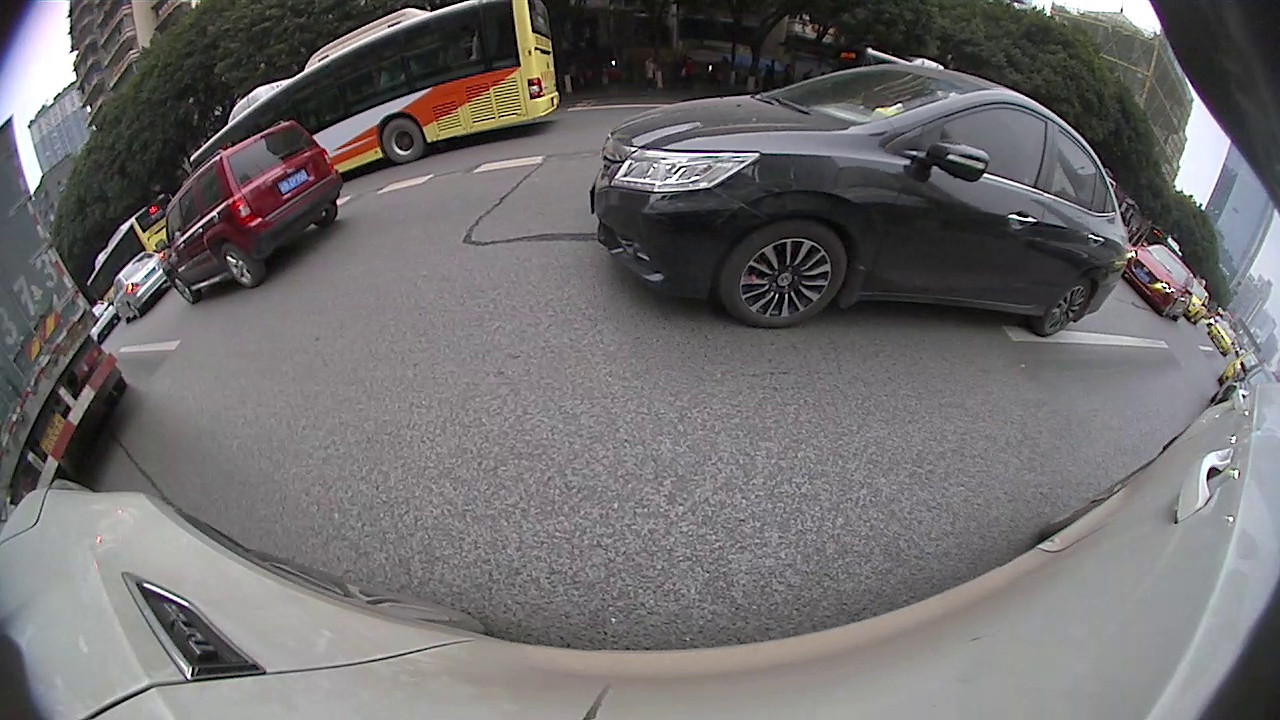bus: (189, 3, 560, 182), (87, 187, 179, 297)
car: (590, 66, 1130, 338), (166, 121, 341, 304), (1129, 242, 1194, 320), (111, 250, 174, 321), (1218, 368, 1274, 406), (1207, 318, 1240, 356), (1192, 279, 1212, 324)
front: (716, 211, 841, 329), (177, 265, 194, 303)
rear: (1040, 267, 1088, 335), (213, 245, 269, 287), (378, 119, 425, 162)
truck: (0, 116, 128, 499)
